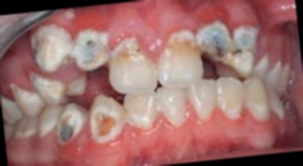Caries: (187, 23, 221, 63), (86, 110, 120, 138), (54, 112, 77, 144), (75, 37, 100, 65)
